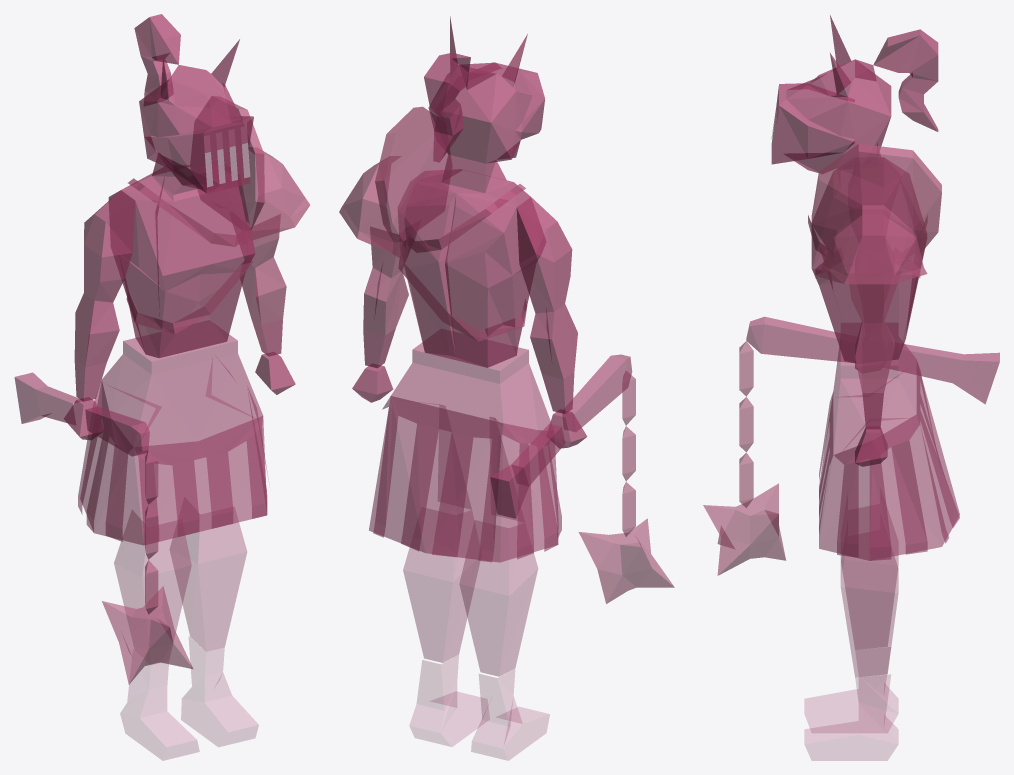
File: verac.glb
3 views of the same model, side by side, from view 1: azimuth 30°, elevation 25°; view 2: azimuth 150°, elevation 25°; view 3: azimuth 270°, elevation 25° (orthographic).
Size of the model in its own units: 79 by 215 by 82.
Materials: 1 (1 with a texture image).
